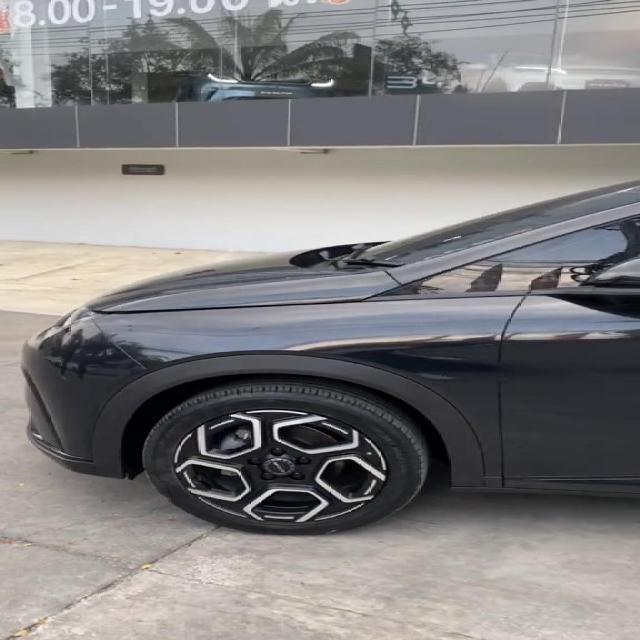Hatchback: (22, 181, 639, 535)
